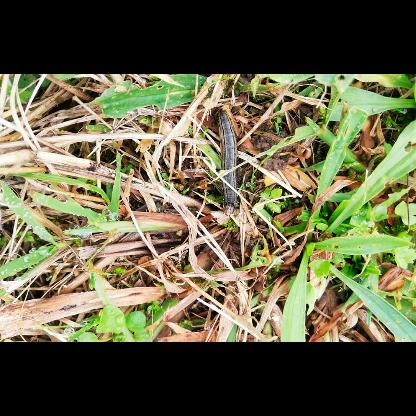oruga: (207, 106, 243, 224)
